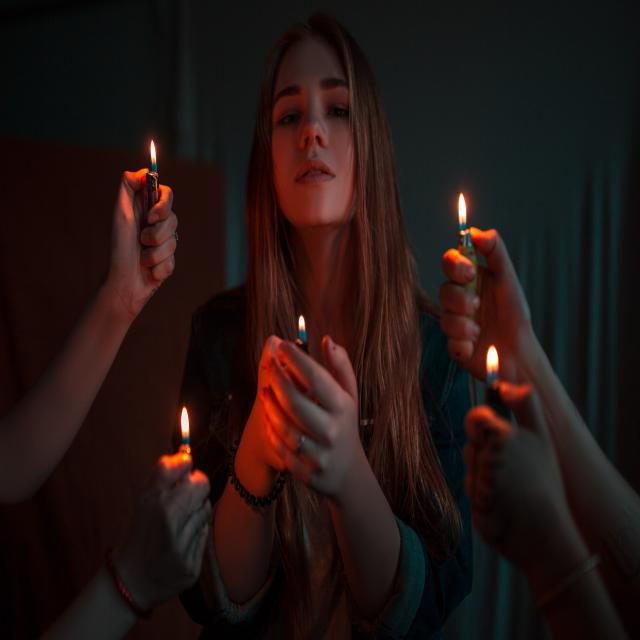fire: (170, 397, 199, 445), (452, 183, 476, 236)
